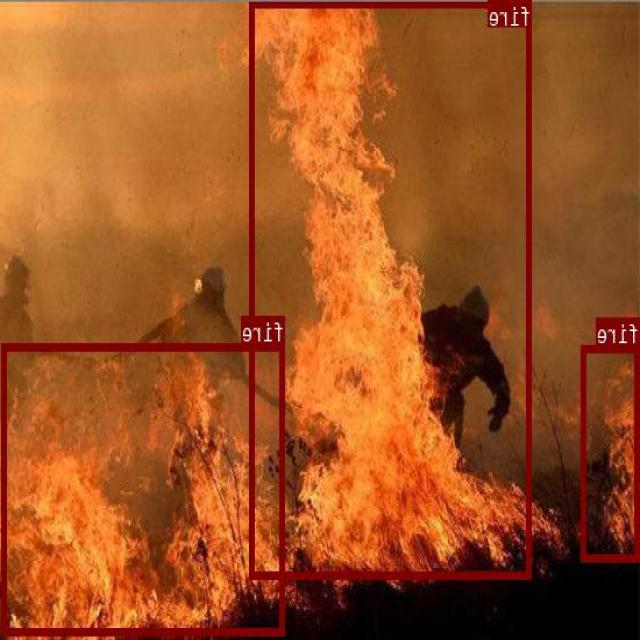fire: (250, 0, 532, 577), (3, 342, 286, 636), (582, 343, 640, 560)
